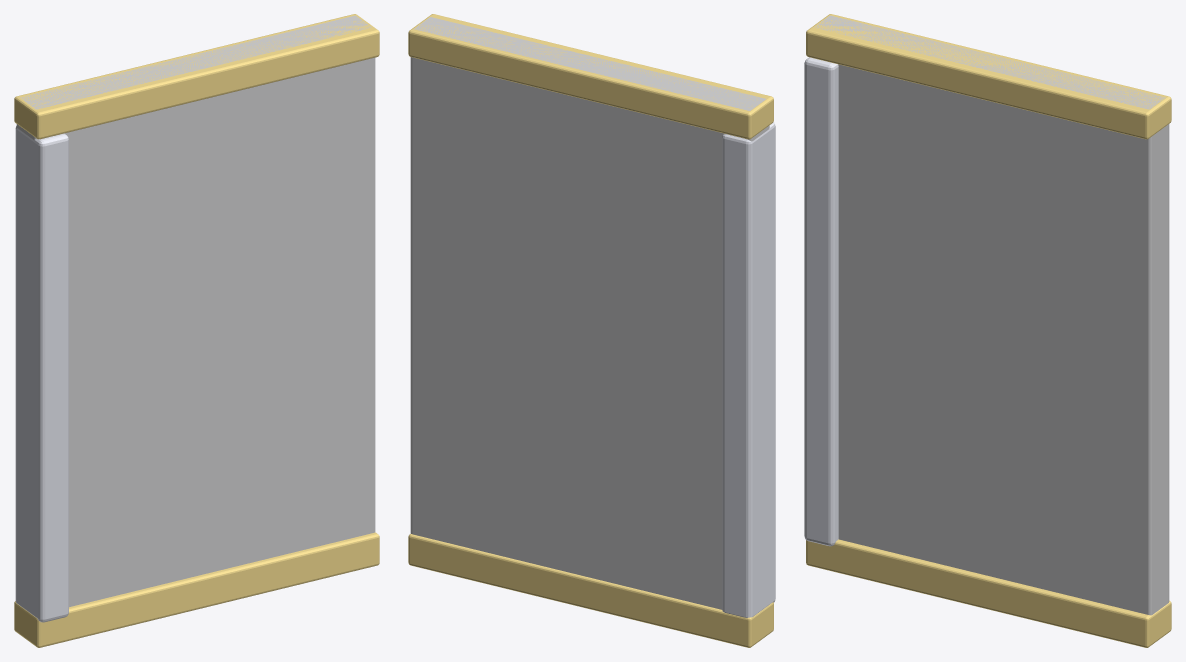
Rendered from fx_wall.glb.
3 views of the same model, side by side, from view 1: azimuth 30°, elevation 25°; view 2: azimuth 150°, elevation 25°; view 3: azimuth 330°, elevation 25° (orthographic).
Parts seen in each view (by area): view 1: fx_wall; view 2: fx_wall; view 3: fx_wall.
Part boxes in pixels (box(x1,y1,x2,y2)): fx_wall: box(14, 14, 379, 647); fx_wall: box(408, 14, 775, 647); fx_wall: box(804, 14, 1171, 647).
Size of the model in its own units: 4.02 by 6 by 0.555.
